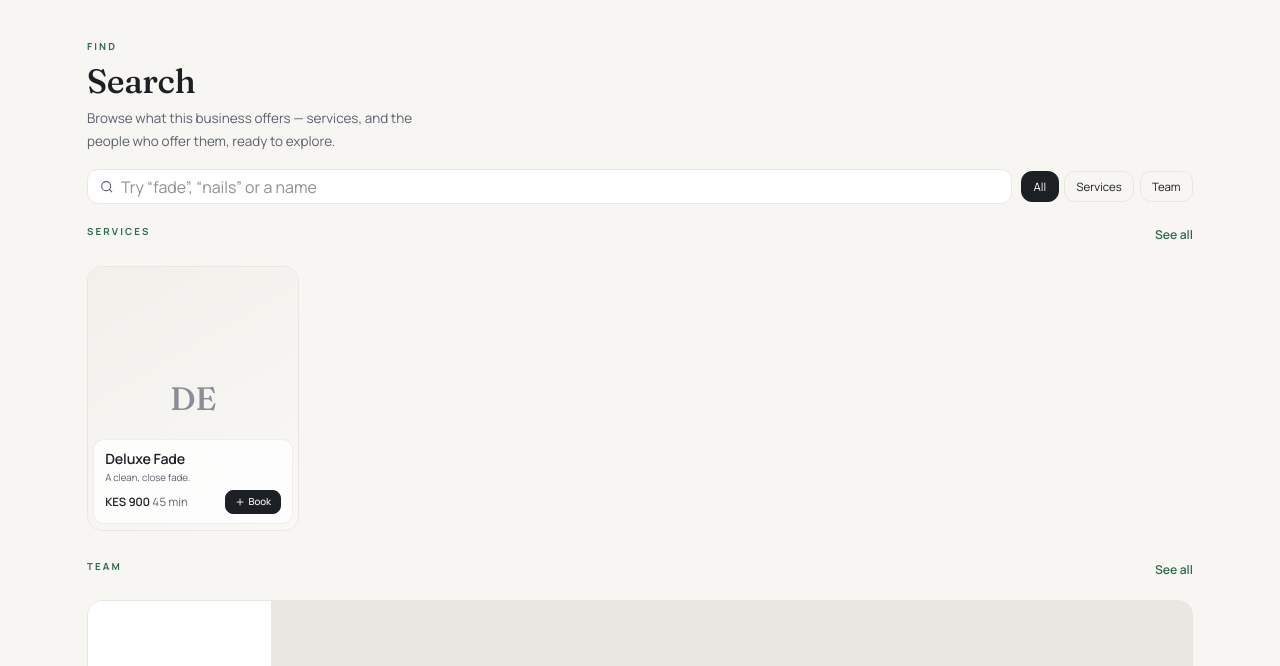
Test case: StorefrontSearchPage › offers a way out when nothing matches
Type "zzz" into the search field named "search services and team".
click(560, 187); type("zzz")  # box [121,176,998,198]
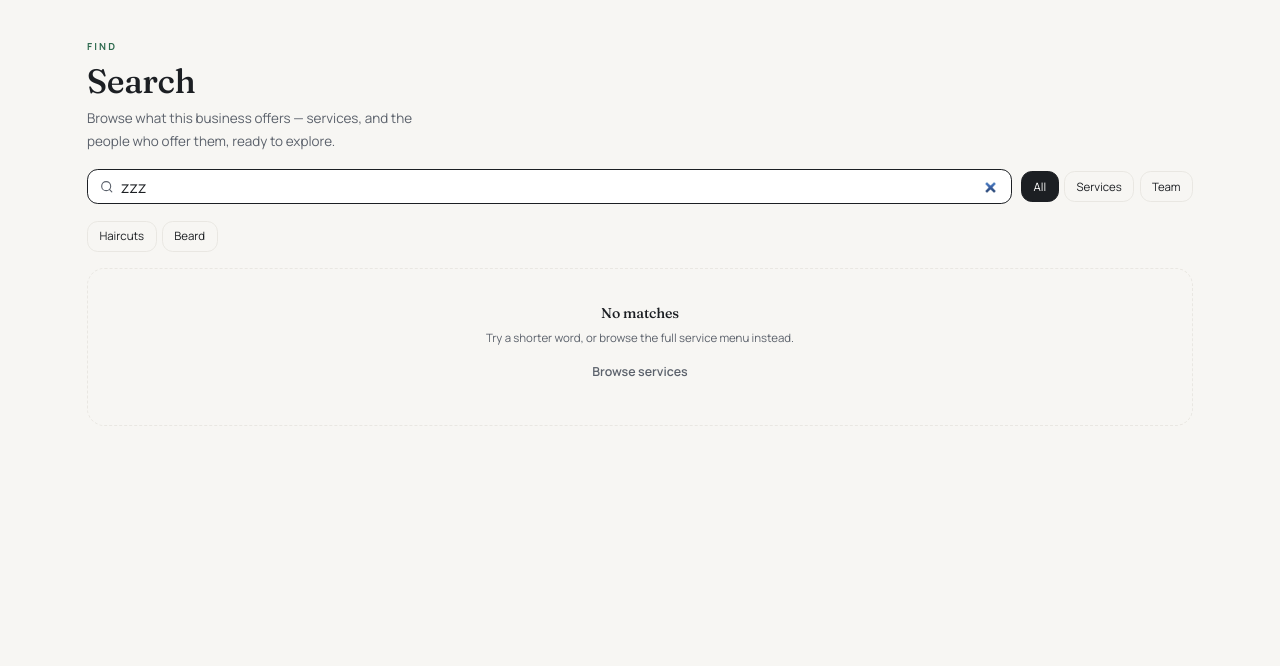
Now the text "No matches" is shown, box [601,304,679,322]
